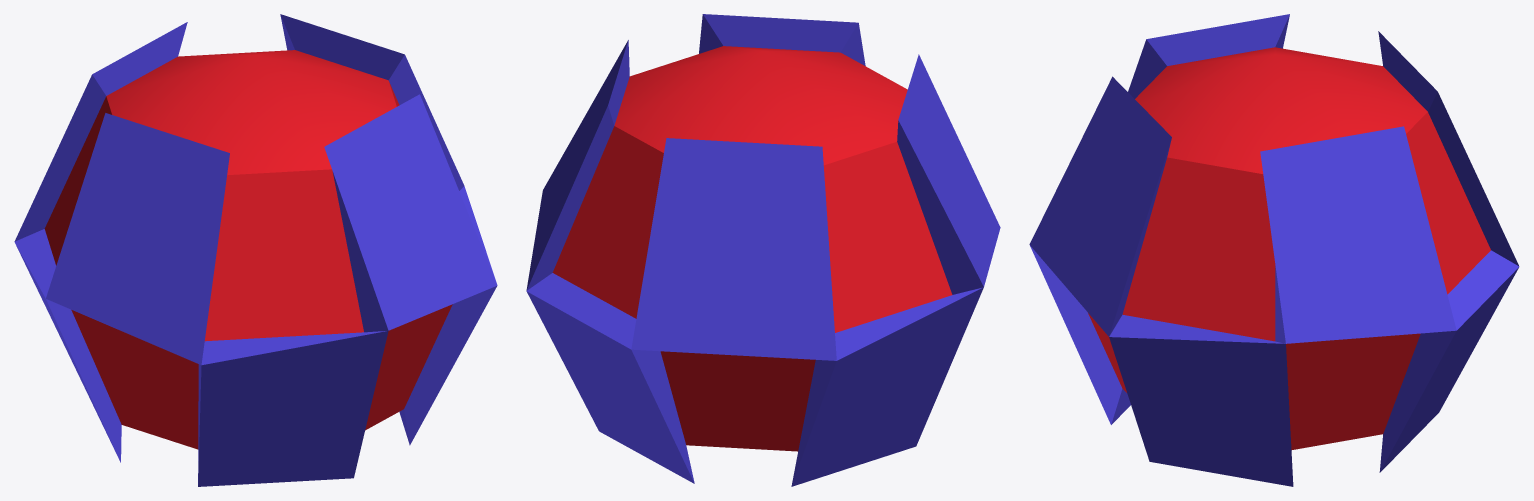
File: corrupted-sphere.fbx
3 renders of one model, left to right at view 1: azimuth 30°, elevation 25°; view 2: azimuth 150°, elevation 25°; view 3: azimuth 270°, elevation 25°, orthographic.
Parts seen in each view (by area): view 1: corrupted-sphere; view 2: corrupted-sphere; view 3: corrupted-sphere.
Boxes of the visible parts, x1,y1,x2,y2 form: corrupted-sphere: (14,14,497,486); corrupted-sphere: (526,14,1000,486); corrupted-sphere: (1029,14,1519,486).
Size of the model in its own units: 228 by 200 by 227.
